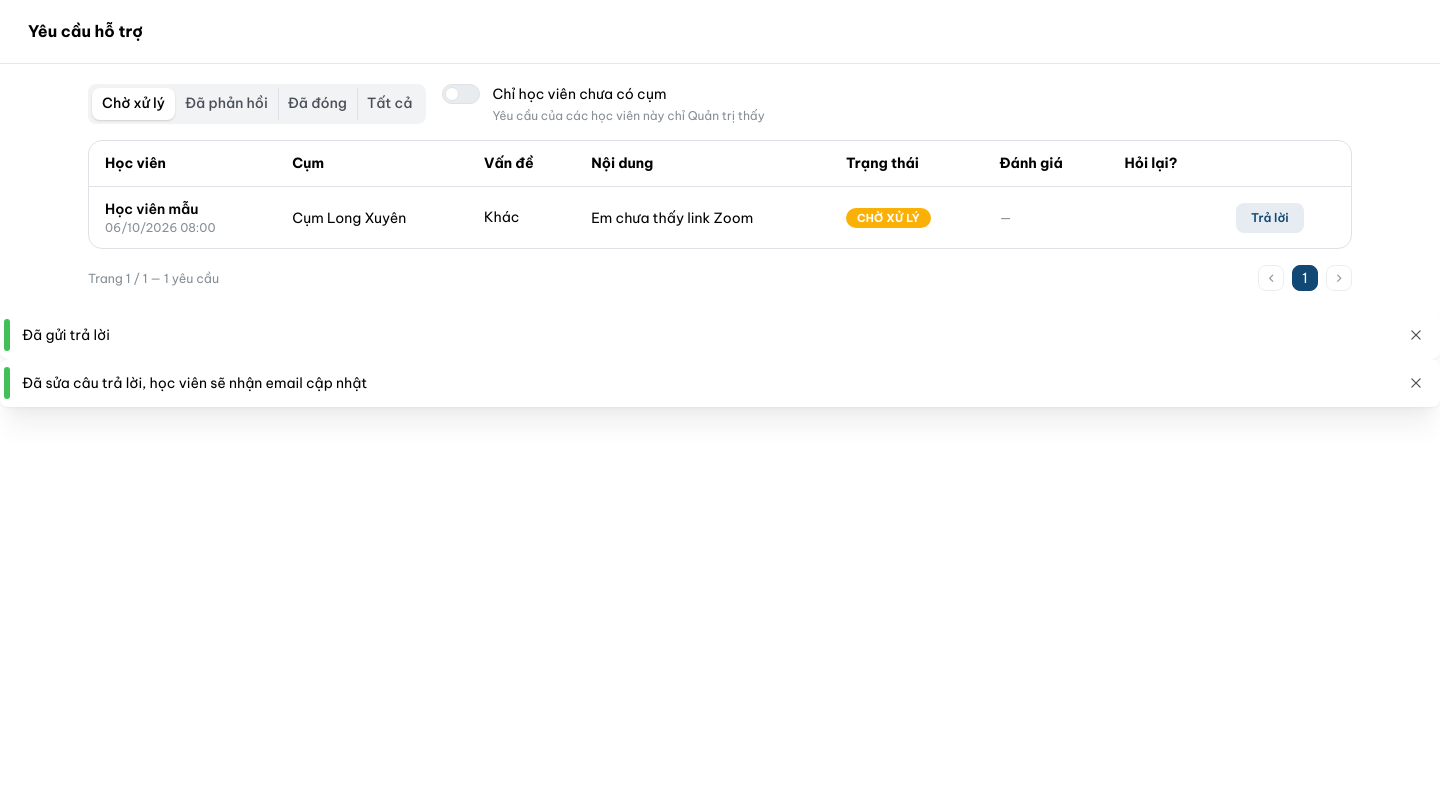
Test case: Quản trị — Yêu cầu hỗ trợ (ADR 0003) › Quản trị trả lời nhưng người hỗ trợ đã trả lời trước -> 409 giữ bản nháp
Step 1. Click the button "Trả lời" → (1270, 218), box 1236,203 -> 1304,233
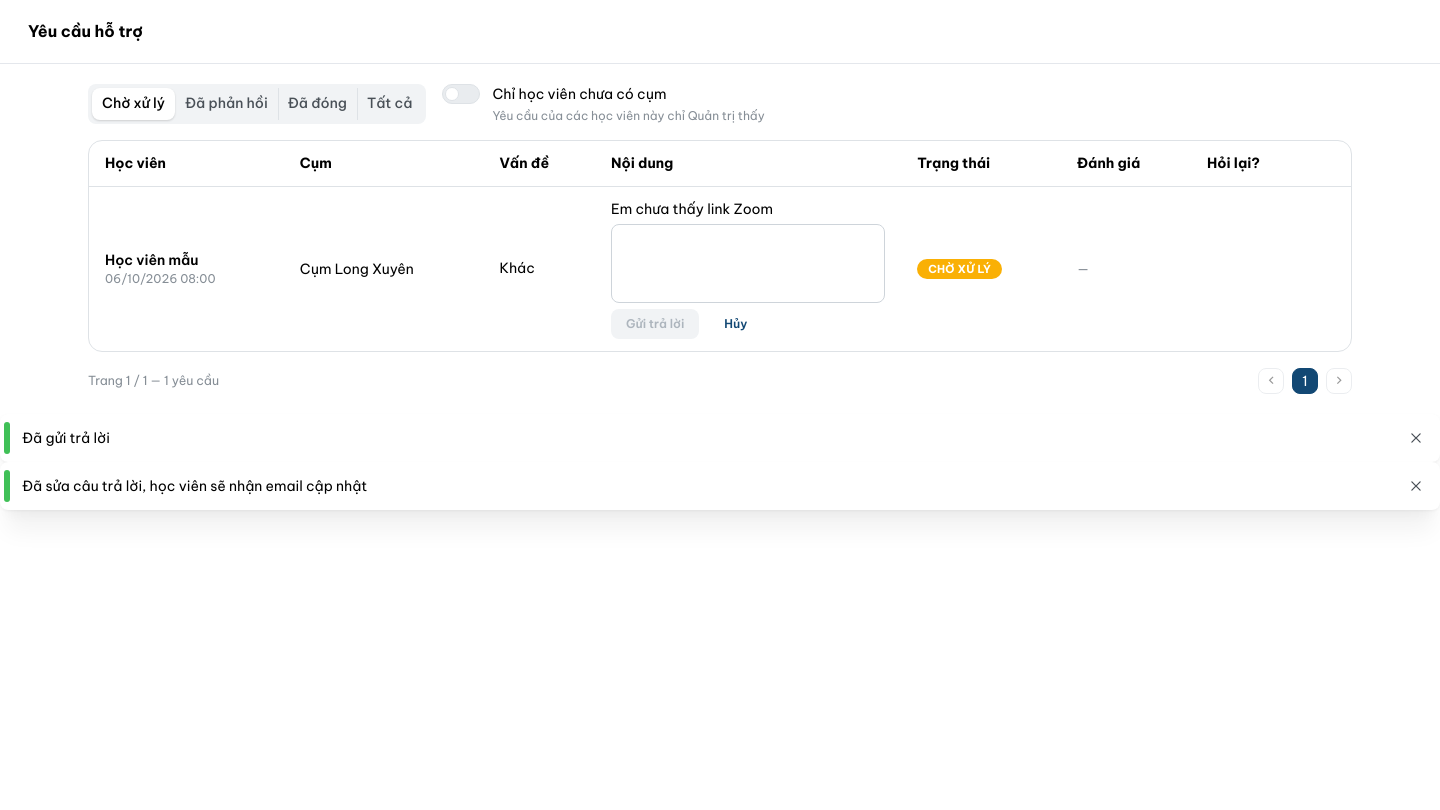
Step 2. Type "Nháp quản trị" into the text box named "Nội dung trả lời" → (748, 263), box 611,224 -> 885,303
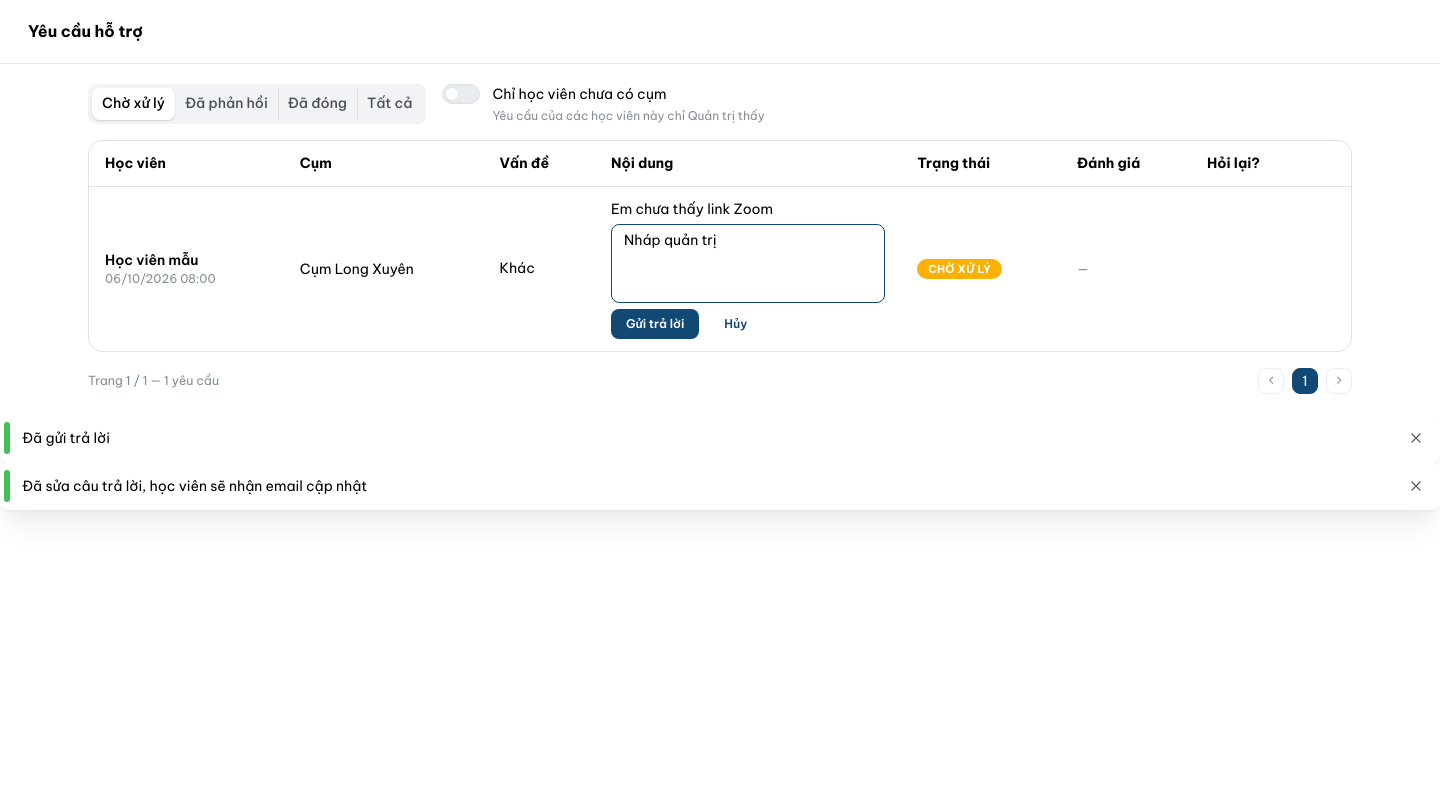
Step 3. Click the button "Gửi trả lời" → (655, 324), box 611,309 -> 699,339
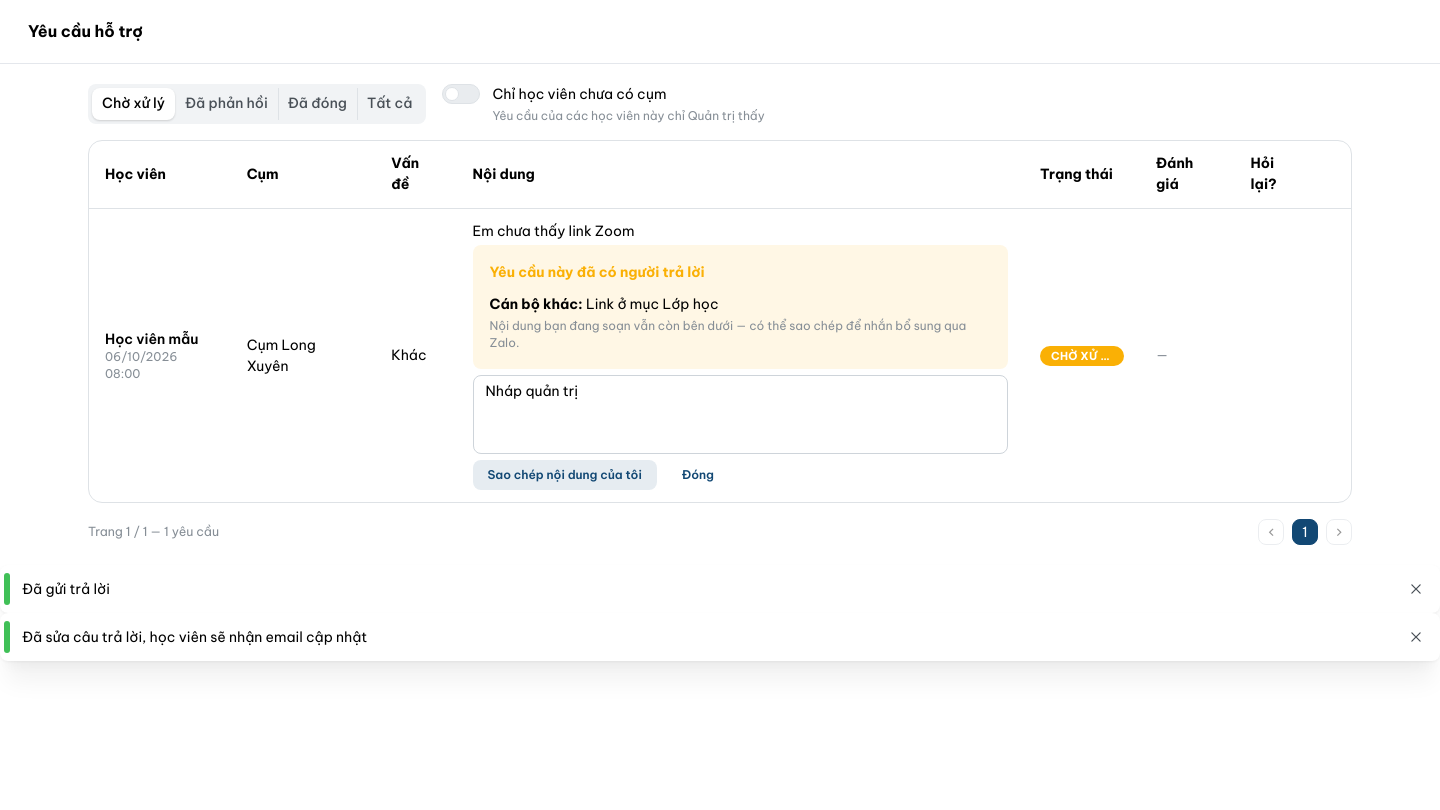
Result: the text "Yêu cầu này đã có người trả lời" is shown at 490,262 -> 705,284
